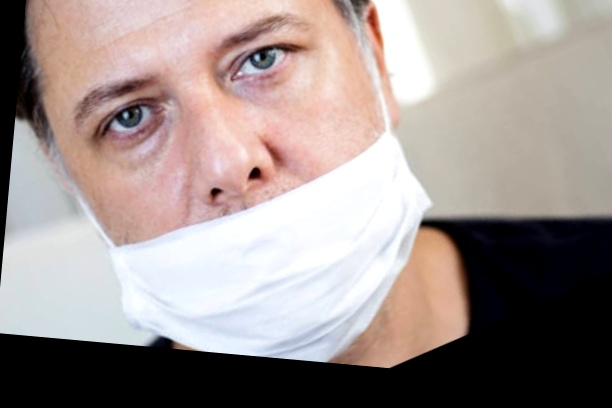mask_weared_incorrect: (17, 1, 419, 361)
